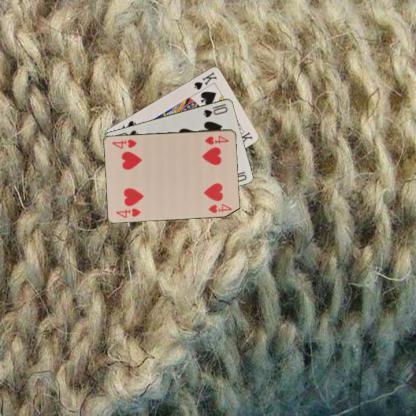10s: (200, 101, 229, 119)
4h: (114, 206, 142, 220), (202, 133, 230, 145)
Ks: (192, 68, 219, 90)
